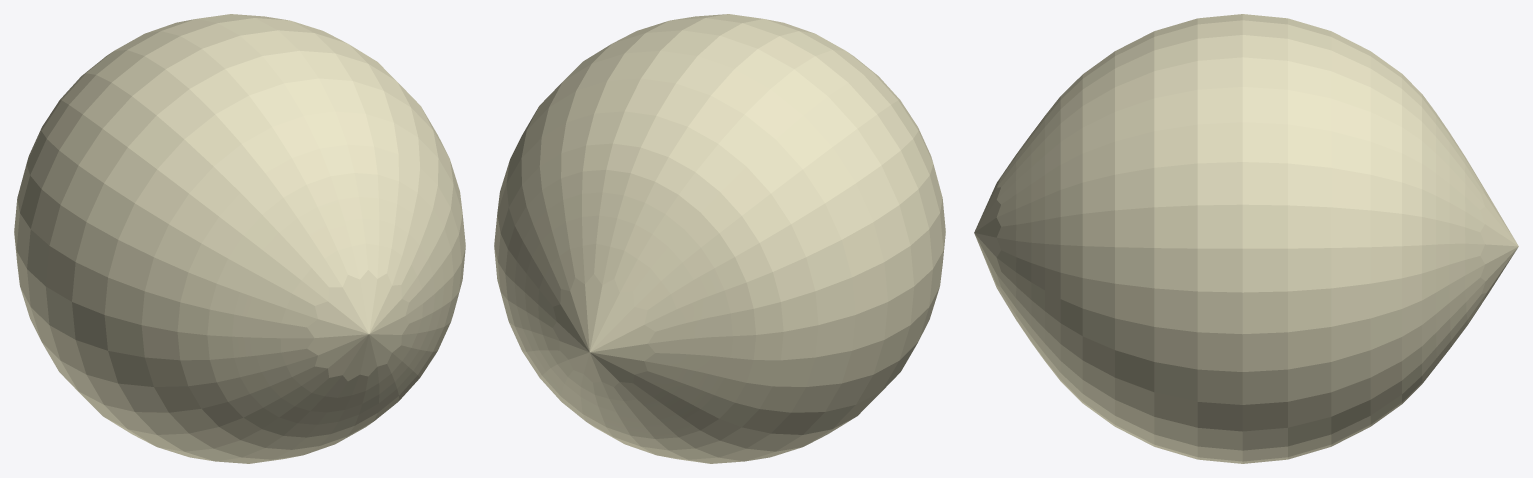
The model's file is Onion2.fbx.
The picture shows the model from 3 angles, left to right: view 1: azimuth 30°, elevation 25°; view 2: azimuth 150°, elevation 25°; view 3: azimuth 270°, elevation 25°; orthographic projection.
Visible parts, largest first — view 1: Sphere; view 2: Sphere; view 3: Sphere.
Boxes of the visible parts, x1,y1,x2,y2 form: Sphere: (14, 14, 465, 463); Sphere: (494, 14, 945, 463); Sphere: (974, 14, 1518, 463).
Size of the model in its own units: 190 by 190 by 230.
